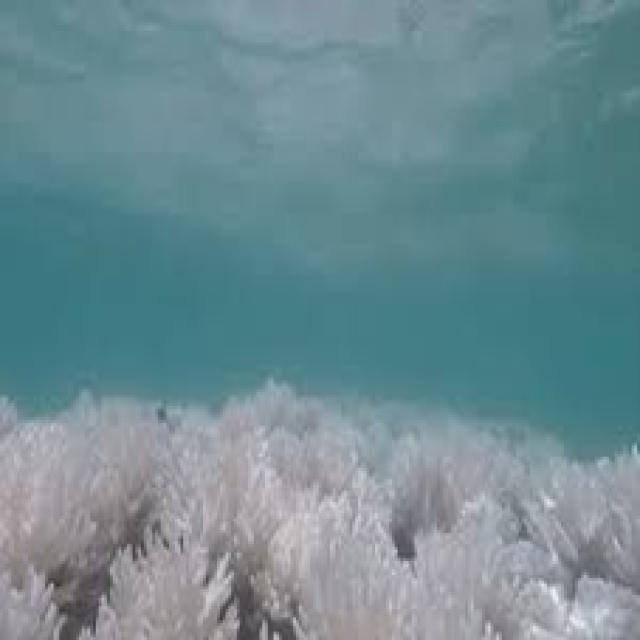Bleached: (1, 427, 640, 640), (291, 539, 483, 640), (96, 526, 245, 640), (520, 452, 640, 573), (220, 395, 328, 449), (53, 401, 169, 444), (1, 570, 62, 640), (570, 579, 640, 640)
